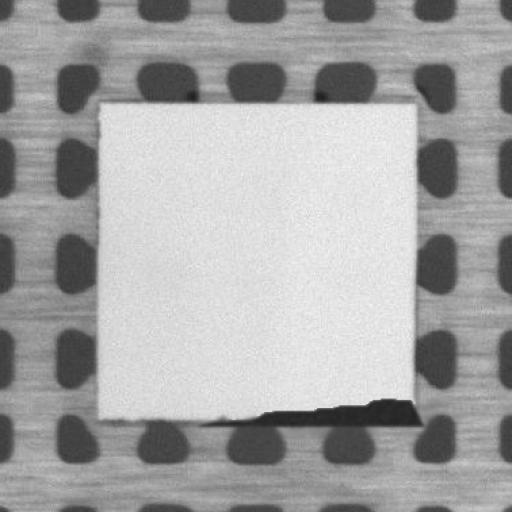DIE_BROKEN: (196, 394, 424, 430)
